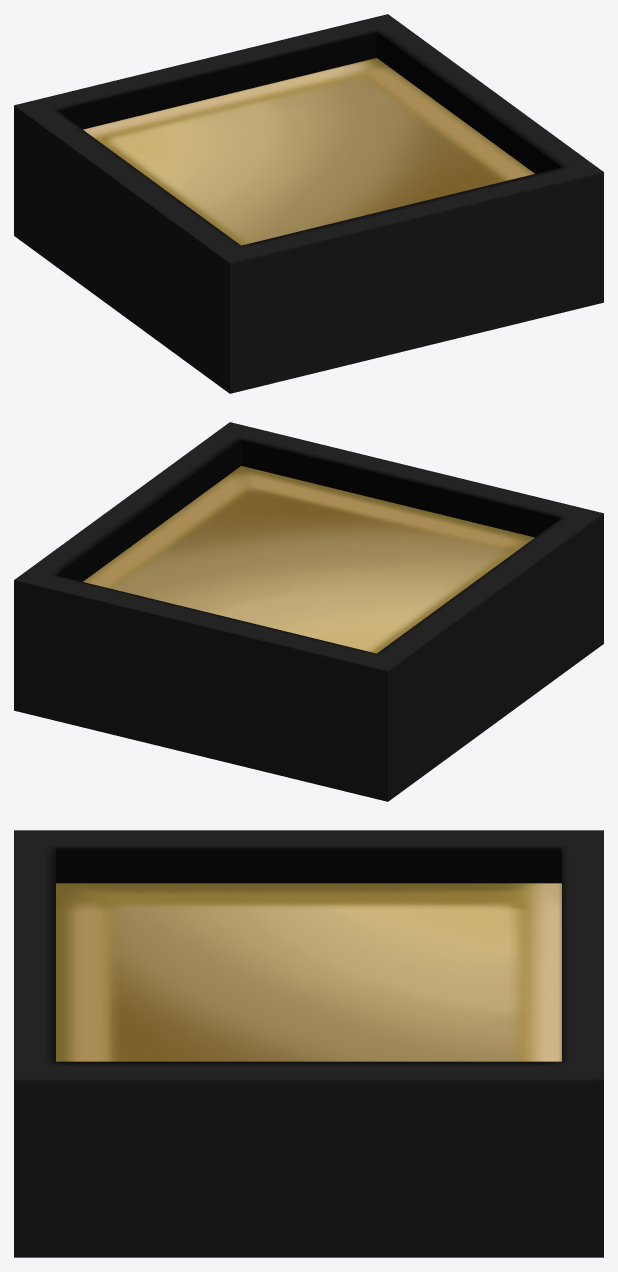
File: WarpSuna.fbx
The picture shows the model from 3 angles, top to bottom: view 1: azimuth 30°, elevation 25°; view 2: azimuth 150°, elevation 25°; view 3: azimuth 270°, elevation 25°; orthographic projection. The views are drawn at different scales.
Visible parts, largest first — view 1: warp_off_; view 2: warp_off_; view 3: warp_off_.
Part boxes in pixels (x1,y1,x2,y2): warp_off_: [14, 14, 603, 393]; warp_off_: [14, 422, 603, 801]; warp_off_: [14, 830, 603, 1257].
Bounding box in the file's own units: 6 × 2 × 6.
1 material, 1 textured.
